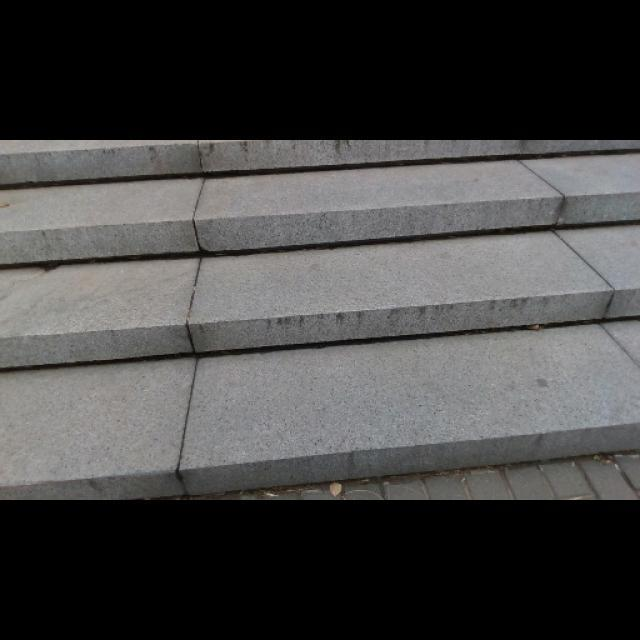stair: (0, 141, 639, 497)
